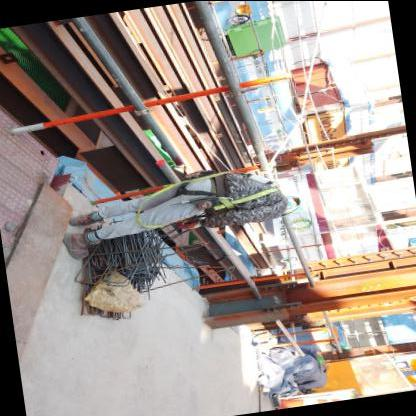safety-shoe: (59, 229, 97, 262), (64, 207, 97, 229)
